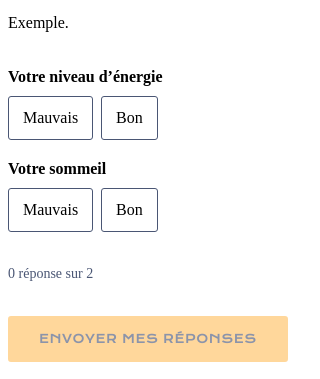
it: QuestionnaireForm › can only be sent once every question is answered
Step 1. Click the radio button labelled "Bon" below "Votre niveau d’énergie" → (129, 118), box [101,96,158,140]
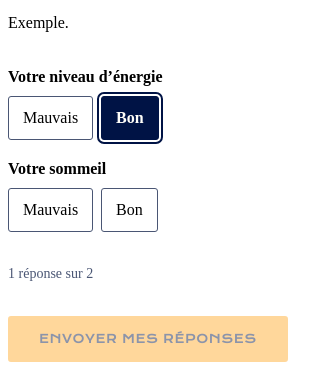
Expected: the button "Envoyer mes réponses" is disabled, [8,316,288,362]
Now the text "1 réponse sur 2" is shown, box [8,266,93,282]
